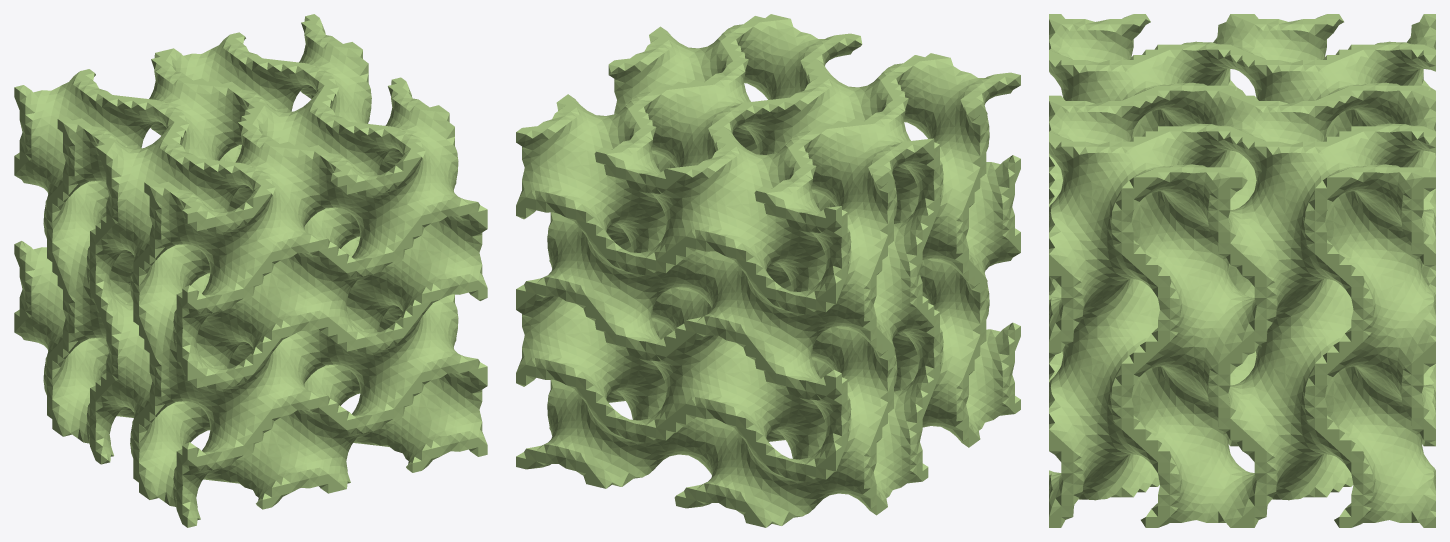
The model's file is gyroid_lattice_demo.glb.
3 renders of one model, left to right at view 1: azimuth 30°, elevation 25°; view 2: azimuth 150°, elevation 25°; view 3: azimuth 270°, elevation 25°, orthographic. The views are drawn at different scales.
Parts seen in each view (by area): view 1: gyroid_lattice; view 2: gyroid_lattice; view 3: gyroid_lattice.
Part boxes in pixels (bbox=[...]): gyroid_lattice: bbox=[14, 14, 487, 527]; gyroid_lattice: bbox=[516, 14, 1020, 527]; gyroid_lattice: bbox=[1049, 14, 1435, 527].
Size of the model in its own units: 24 by 24 by 24.
